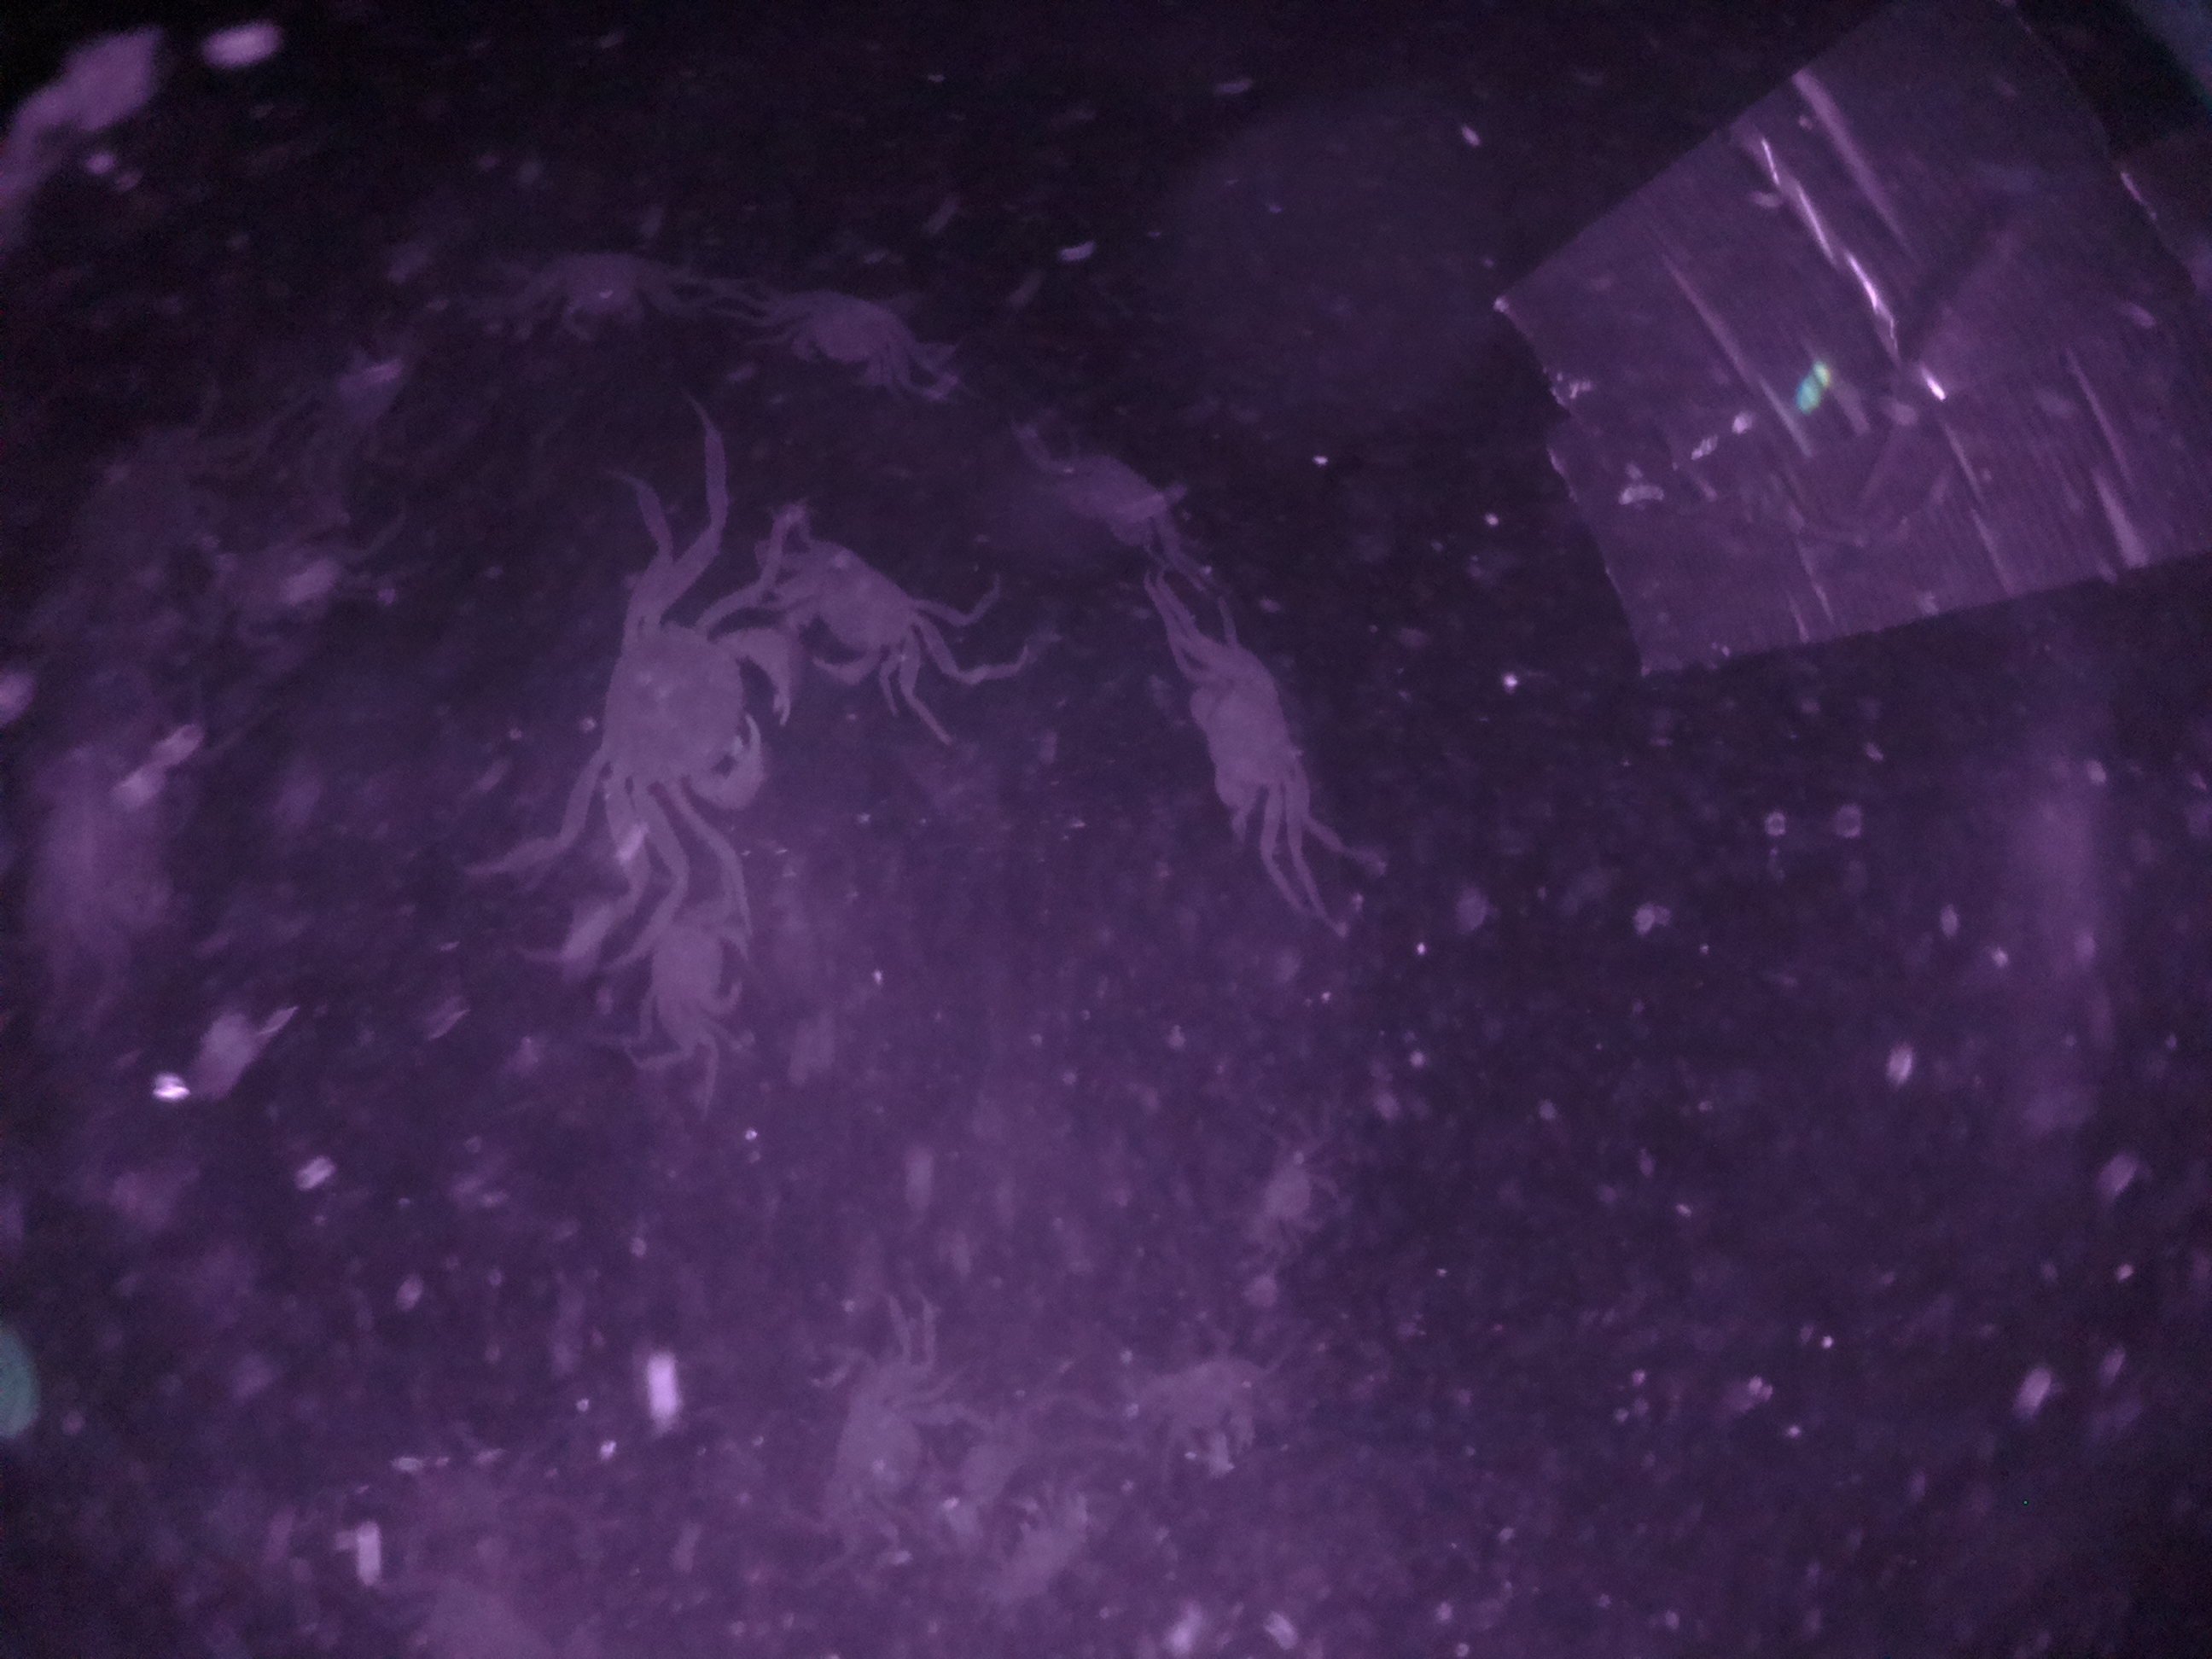Crab: (561, 589, 819, 831), (1169, 629, 1341, 838), (765, 544, 979, 694), (606, 885, 772, 1056), (754, 282, 935, 399), (519, 237, 683, 343)
